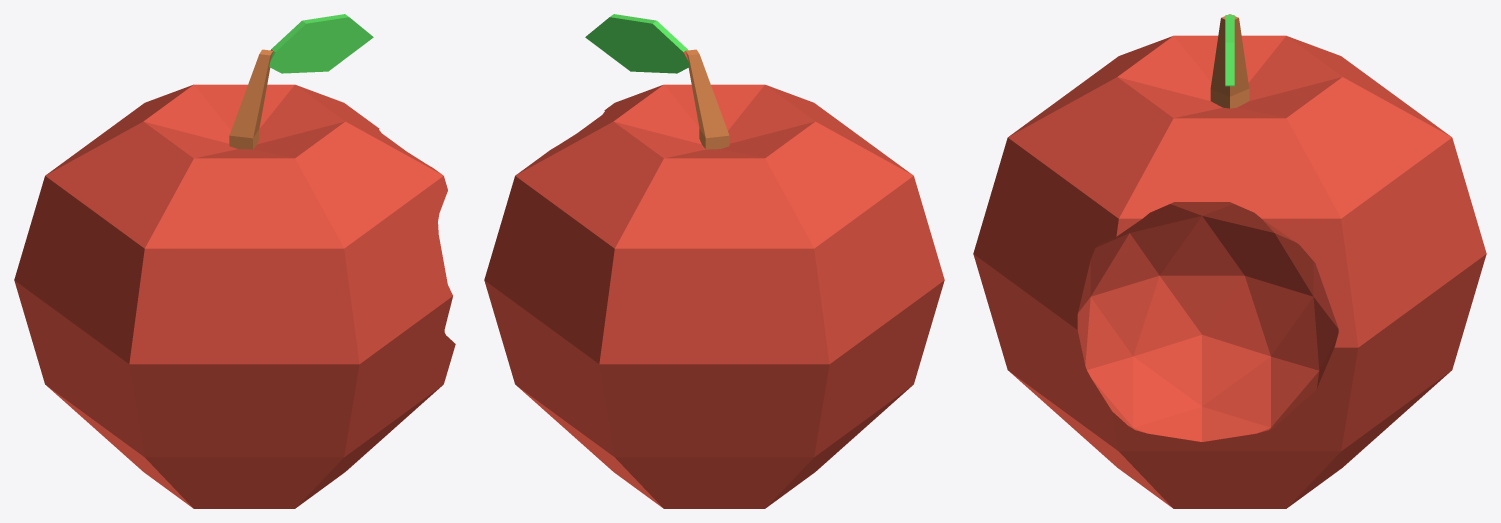
The model's file is elma.fbx.
The picture shows the model from 3 angles, left to right: view 1: azimuth 30°, elevation 25°; view 2: azimuth 150°, elevation 25°; view 3: azimuth 270°, elevation 25°; orthographic projection. The views are drawn at different scales.
Visible parts, largest first — view 1: Sphere; view 2: Sphere; view 3: Sphere.
Part boxes in pixels (x1=…): Sphere: x1=14, y1=14, x2=455, y2=508; Sphere: x1=484, y1=14, x2=944, y2=508; Sphere: x1=973, y1=14, x2=1486, y2=508.
Size of the model in its own units: 197 by 238 by 228.
